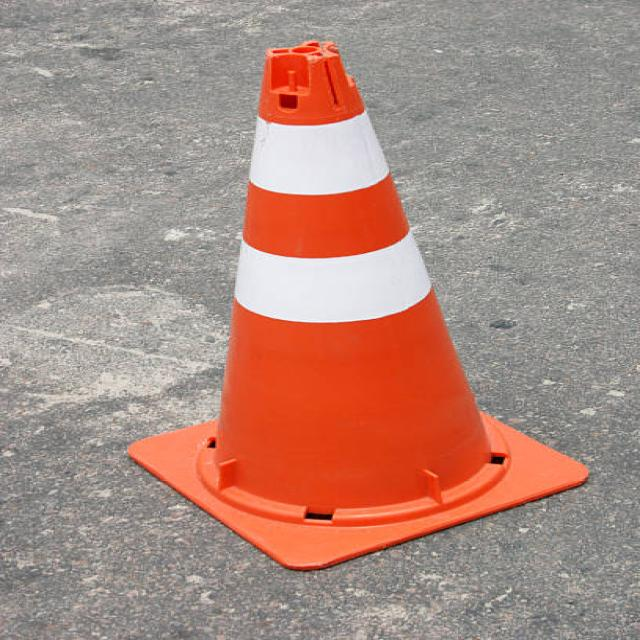Traffic Cone: (75, 8, 640, 592)
